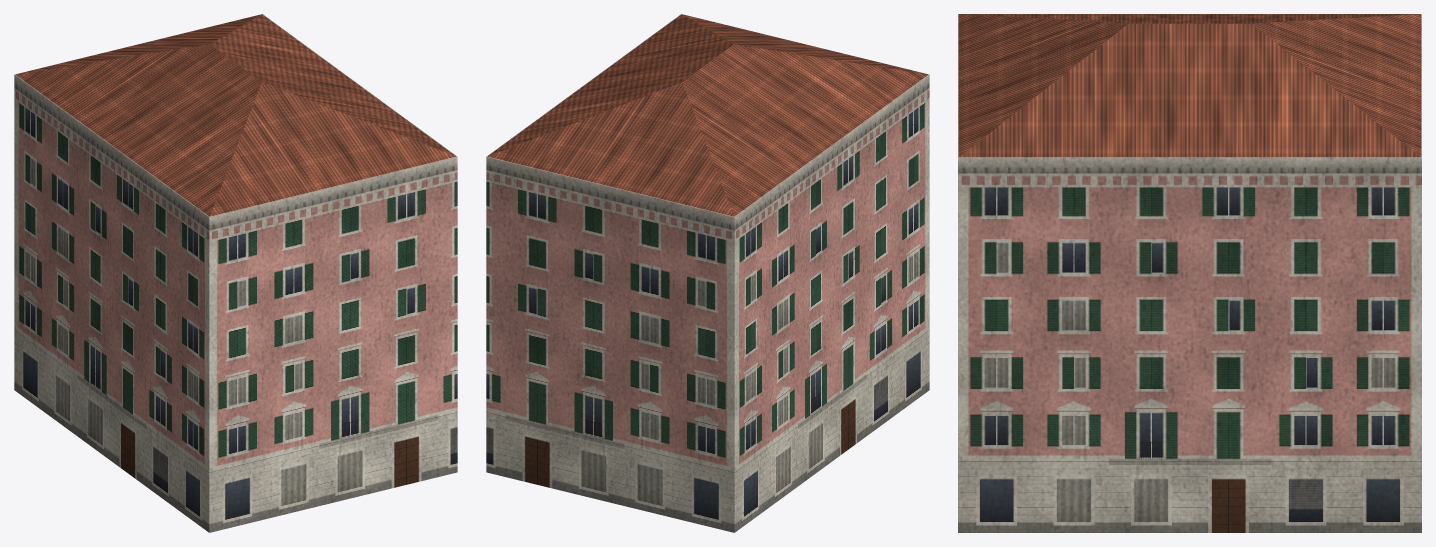
Rendered from SM_Fondale_Palazzo_B_LOD2.fbx.
The picture shows the model from 3 angles, left to right: view 1: azimuth 30°, elevation 25°; view 2: azimuth 150°, elevation 25°; view 3: azimuth 270°, elevation 25°; orthographic projection. The views are drawn at different scales.
Parts seen in each view (by area): view 1: SM_Fondale_Palazzo_B_LOD2; view 2: SM_Fondale_Palazzo_B_LOD2; view 3: SM_Fondale_Palazzo_B_LOD2.
Boxes of the visible parts, box(x1,y1,x2,y2) form: SM_Fondale_Palazzo_B_LOD2: box(14, 14, 457, 532); SM_Fondale_Palazzo_B_LOD2: box(486, 14, 929, 532); SM_Fondale_Palazzo_B_LOD2: box(958, 14, 1421, 532).
Bounding box in the file's own units: 1800 × 2450 × 2549.
Materials: 1 (1 with a texture image).
